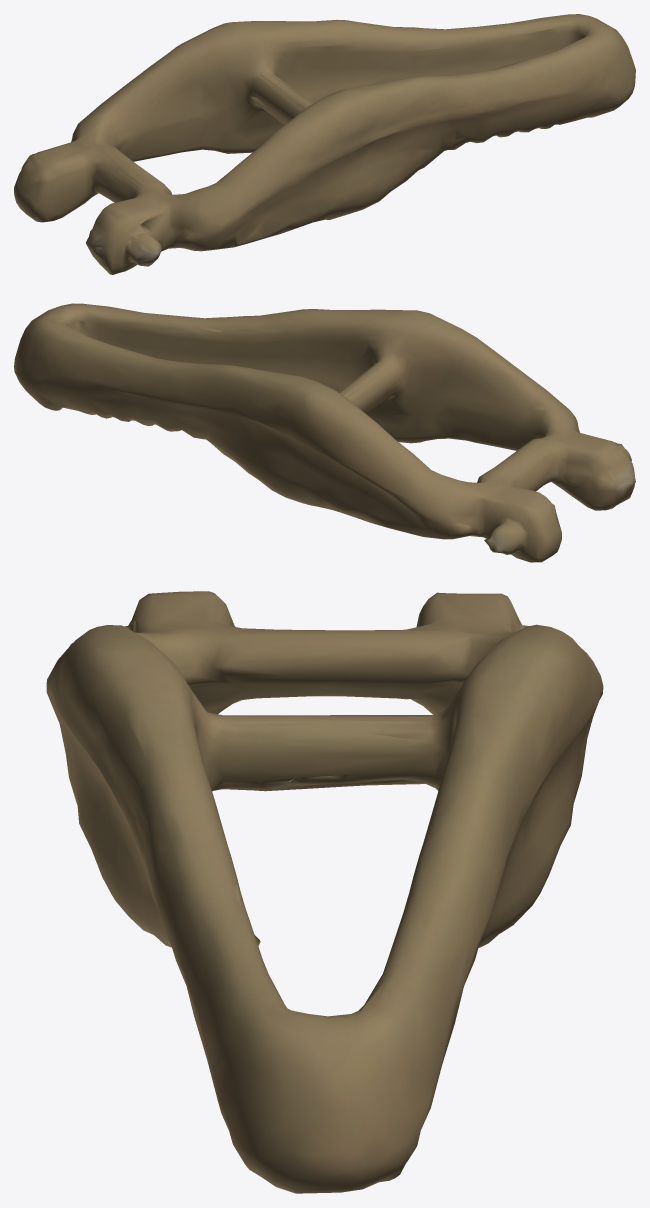
The model's file is bone7.glb.
3 renders of one model, top to bottom at view 1: azimuth 30°, elevation 25°; view 2: azimuth 150°, elevation 25°; view 3: azimuth 270°, elevation 25°, orthographic. The views are drawn at different scales.
Visible parts, largest first — view 1: tripo_node_a7e4973e-c823-4d2e-9b97-84fa7933553a; view 2: tripo_node_a7e4973e-c823-4d2e-9b97-84fa7933553a; view 3: tripo_node_a7e4973e-c823-4d2e-9b97-84fa7933553a.
Part boxes in pixels (bbox=[...]): tripo_node_a7e4973e-c823-4d2e-9b97-84fa7933553a: bbox=[14, 14, 635, 274]; tripo_node_a7e4973e-c823-4d2e-9b97-84fa7933553a: bbox=[14, 303, 635, 562]; tripo_node_a7e4973e-c823-4d2e-9b97-84fa7933553a: bbox=[46, 591, 603, 1193].
Size of the model in its own units: 0.9803 by 0.2072 by 0.4099.
Materials: 1 (1 with a texture image).
